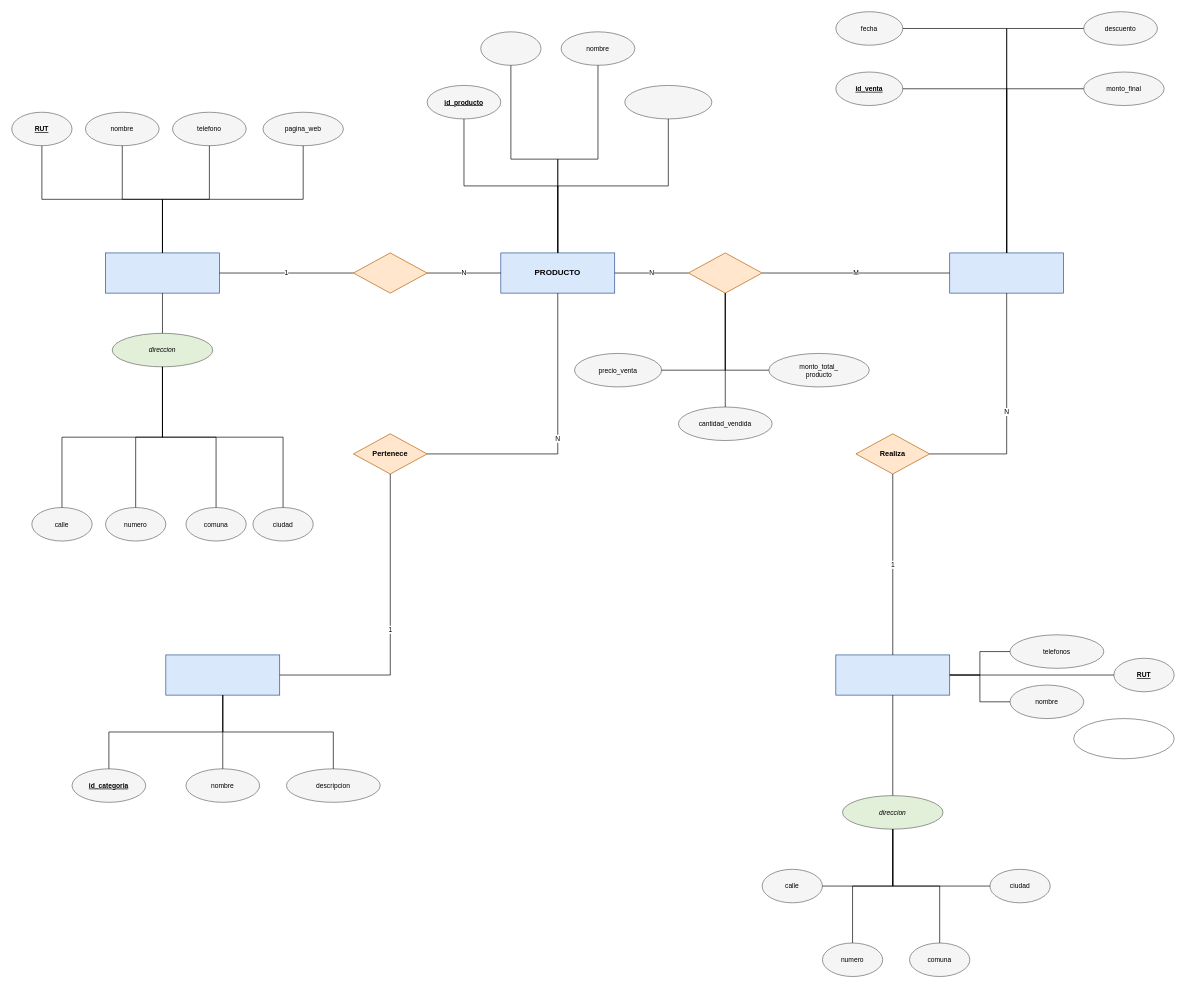
Image size: 1186x988. Some labels were removed from this diagram. The shapes that lost their labels are listed below. From the top down, each one's centre as x and y in pixels, then its label:
(510,48): stock
(668,102): precio_actual
(162,272): PROVEEDOR
(390,272): Suministra
(725,272): Incluye
(1006,272): VENTA
(222,674): CATEGORIA
(892,674): CLIENTE
